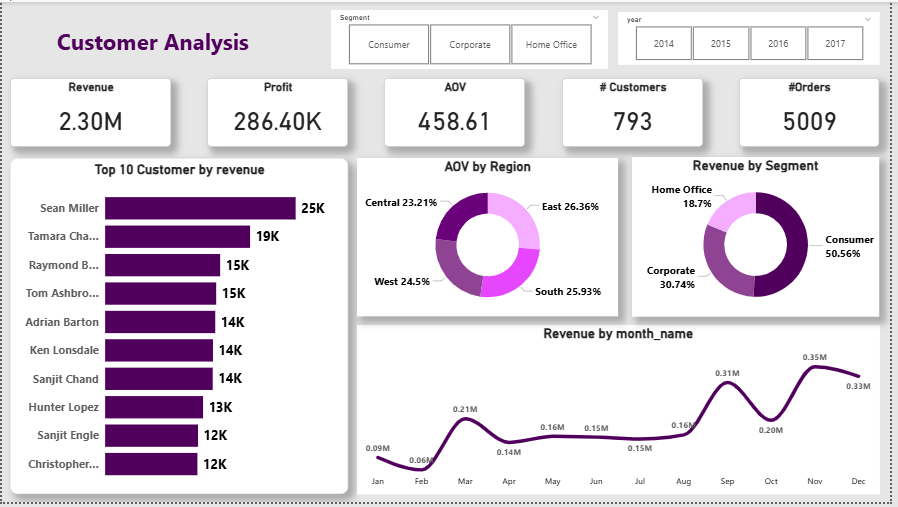

The page's visual inventory and layout, read from the dashboard file:
{"tool":"powerbi","page":{"name":"Customer Analysis","canvas":[1280,720],"ordinal":2},"visuals":[{"type":"card","title":"Revenue","fields":{"Values":["Calculations2.Revenue2"]},"box":[11.5,109.2,231.8,99.4],"z":0},{"type":"card","title":"Profit","fields":{"Values":["Calculations2.profit2"]},"box":[295.5,109.4,203,99.4],"z":1000},{"type":"card","title":"AOV","fields":{"Values":["Calculations2.Aov"]},"box":[550.8,109.2,203.3,99.1],"z":2000},{"type":"card","title":"# Customers","fields":{"Values":["Calculations2.#customer"]},"box":[806.2,109.2,203.3,99.1],"z":3000},{"type":"card","title":"#Orders","fields":{"Values":["Calculations2.#order2"]},"box":[1061.6,109.2,201.6,99.1],"z":4000},{"type":"clusteredBarChart","title":"Top 10 Customer by revenue","fields":{"Category":["dcustomer.Customer Name"],"Y":["Calculations2.Revenue2"]},"box":[11.8,225.1,487.1,483.8],"z":5000},{"type":"lineChart","title":"Revenue by month_name","fields":{"Category":["calender_date.month_name"],"Y":["Calculations2.Revenue2"]},"box":[510.7,465.3,752.5,243.6],"z":6000},{"type":"donutChart","title":"AOV by Region","fields":{"Y":["Calculations2.Aov"],"Category":["dlocations.Region"]},"box":[510.7,225.1,376.3,228.5],"z":7000},{"type":"donutChart","title":"Revenue by Segment","fields":{"Category":["dcustomer.Segment"],"Y":["Calculations.Revenue"]},"box":[907.1,223.4,356.1,230.1],"z":8000},{"type":"actionButton","box":[25.9,14.4,383,80.6],"z":9000},{"type":"slicer","fields":{"Values":["calender_date.year"]},"box":[887,14.4,377.3,76.3],"z":10000},{"type":"slicer","fields":{"Values":["dcustomer.Segment"]},"box":[473.8,11.5,398.9,85],"z":11000}]}

Visuals, with their boxes in screenshot pixels (x1, y1, x2, y2), scaled from the page's 1280x720 canvas onto the 898x507 screenshot:
"Revenue" card: {"left": 8, "top": 77, "right": 171, "bottom": 147}
"Profit" card: {"left": 207, "top": 77, "right": 350, "bottom": 147}
"AOV" card: {"left": 386, "top": 77, "right": 529, "bottom": 147}
"# Customers" card: {"left": 566, "top": 77, "right": 708, "bottom": 147}
"#Orders" card: {"left": 745, "top": 77, "right": 886, "bottom": 147}
"Top 10 Customer by revenue" clusteredBarChart: {"left": 8, "top": 159, "right": 350, "bottom": 499}
"Revenue by month_name" lineChart: {"left": 358, "top": 328, "right": 886, "bottom": 499}
"AOV by Region" donutChart: {"left": 358, "top": 159, "right": 622, "bottom": 319}
"Revenue by Segment" donutChart: {"left": 636, "top": 157, "right": 886, "bottom": 319}
actionButton: {"left": 18, "top": 10, "right": 287, "bottom": 67}
slicer - calender_date.year: {"left": 622, "top": 10, "right": 887, "bottom": 64}
slicer - dcustomer.Segment: {"left": 332, "top": 8, "right": 612, "bottom": 68}
